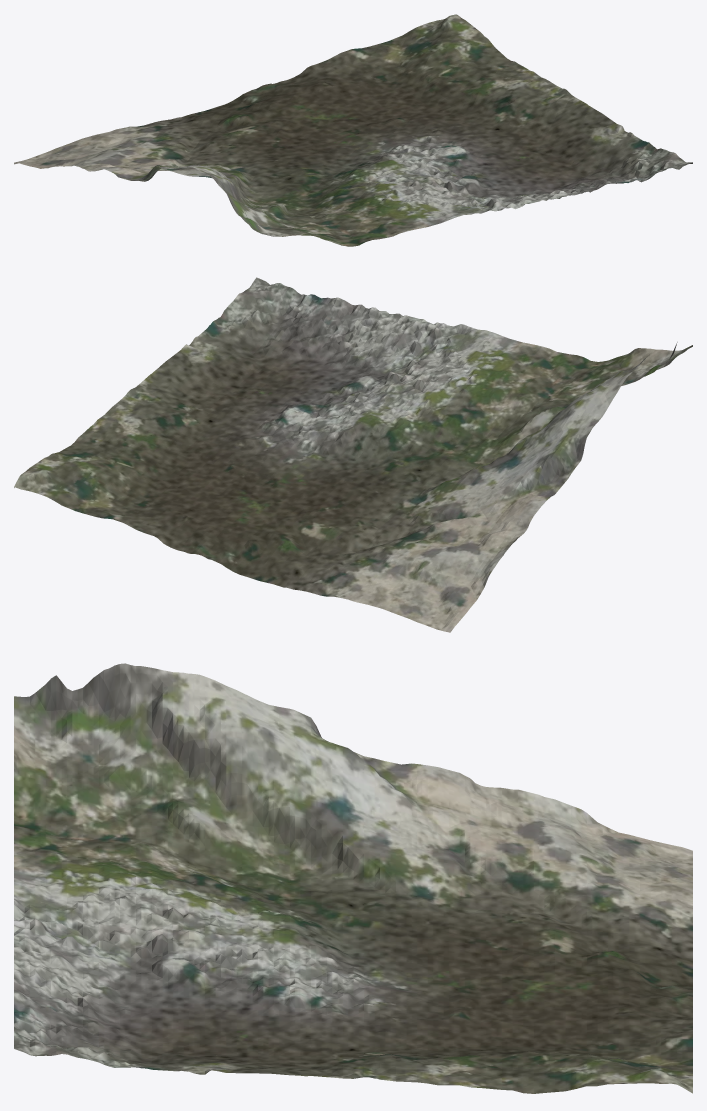
3 views of the same model, one above another, from view 1: azimuth 30°, elevation 25°; view 2: azimuth 150°, elevation 25°; view 3: azimuth 270°, elevation 25° (orthographic). The views are drawn at different scales.
Bounding box in the file's own units: 250 × 74.36 × 241.
1 material, 1 textured.
